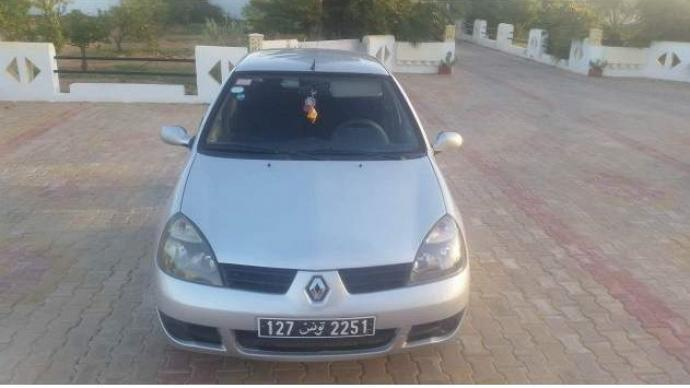LP: (257, 316, 379, 339)
